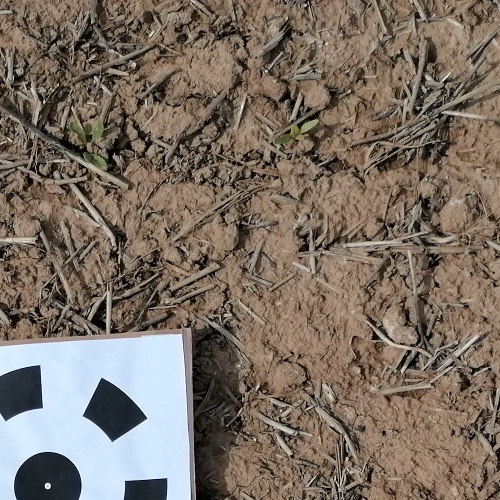beet: (69, 121, 108, 169), (276, 120, 317, 145)
